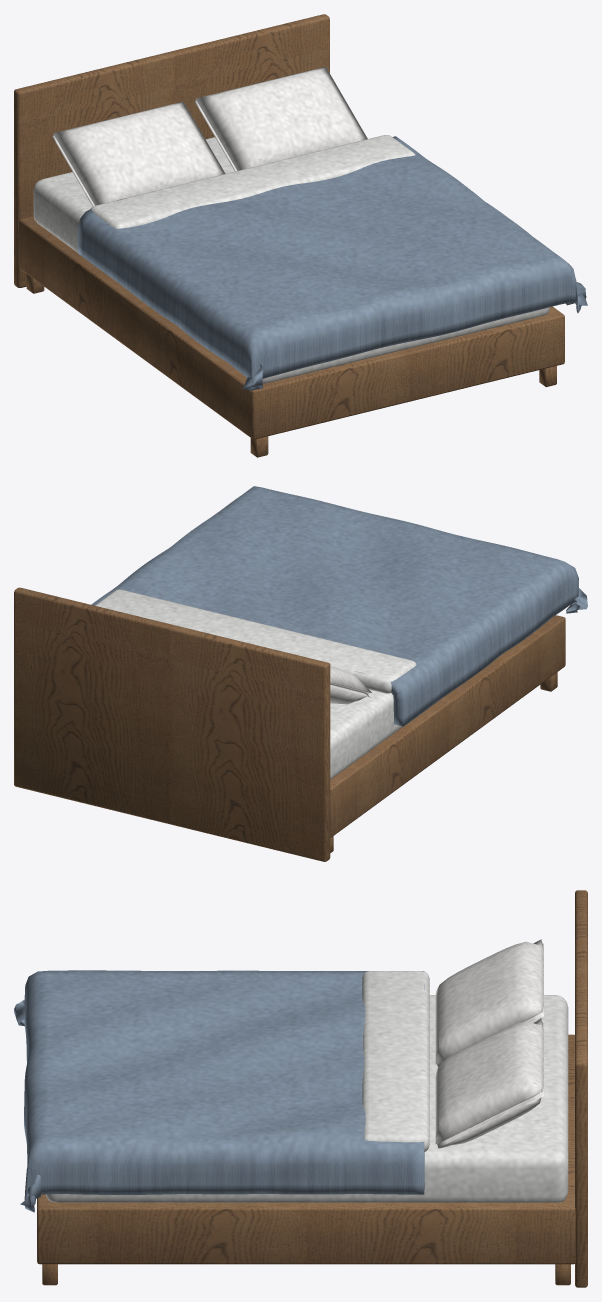
The model's file is h_bed0.glb.
3 views of the same model, one above another, from view 1: azimuth 30°, elevation 25°; view 2: azimuth 150°, elevation 25°; view 3: azimuth 270°, elevation 25° (orthographic). The views are drawn at different scales.
Visible parts, largest first — view 1: duvet, frame, head, pillow.001, pillow, fold, mattress; view 2: head, duvet, frame, fold, mattress, pillow.001; view 3: duvet, frame, mattress, fold, pillow, pillow.001, head.
Part boxes in pixels (x1,y1,x2,y2): duvet: (78,136,587,391); frame: (19,216,564,439); head: (14,14,329,287); pillow.001: (52,101,225,206); pillow: (194,66,367,171); fold: (90,135,415,228); mattress: (33,137,549,383); head: (14,587,330,861); duvet: (91,486,587,726); frame: (330,615,565,837); fold: (95,589,416,693); mattress: (330,689,402,779); pillow.001: (330,666,371,704); duvet: (14,970,424,1212); frame: (37,1034,575,1264); mattress: (45,995,568,1202); fold: (362,971,429,1151); pillow: (435,1019,543,1148); pillow.001: (435,939,543,1066); head: (575,890,587,1287).
Size of the model in its own units: 1.54 by 0.8407 by 1.94.
4 materials, 4 textured.
